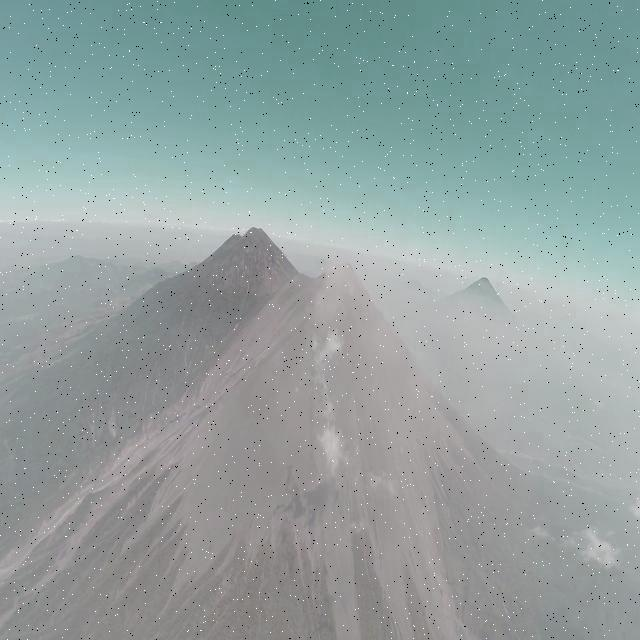Summit: (321, 256, 367, 284)
